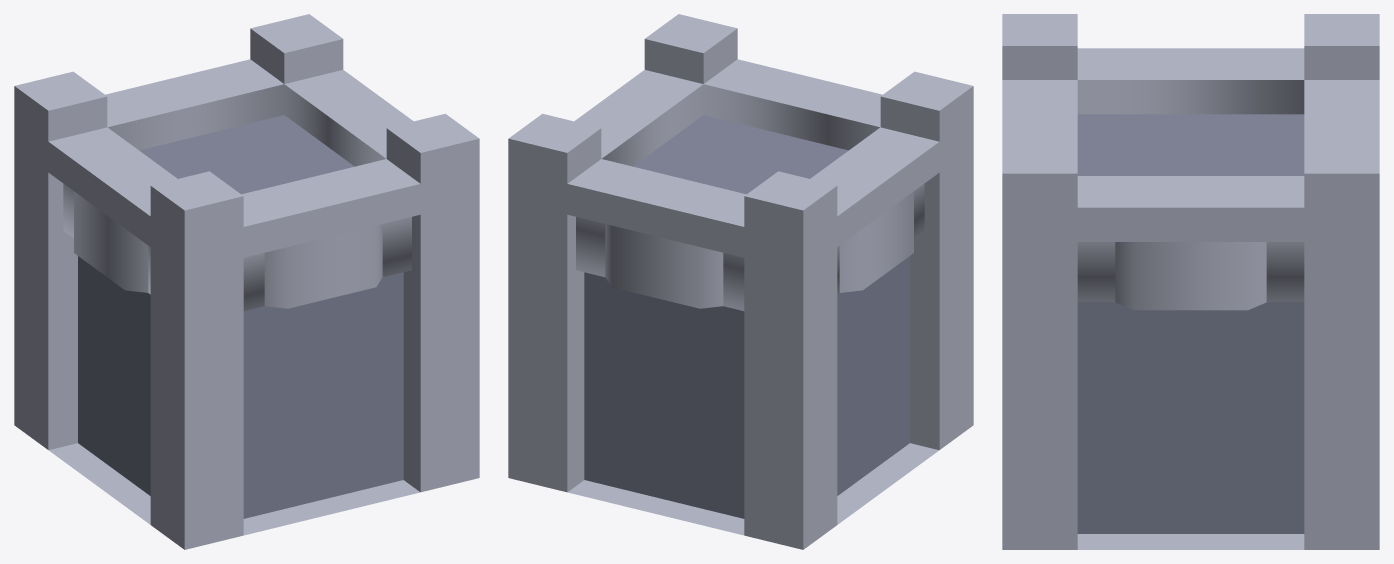
The model's file is wall.glb.
The picture shows the model from 3 angles, left to right: view 1: azimuth 30°, elevation 25°; view 2: azimuth 150°, elevation 25°; view 3: azimuth 270°, elevation 25°; orthographic projection. The views are drawn at different scales.
Parts seen in each view (by area): view 1: wall; view 2: wall; view 3: wall.
Part boxes in pixels (x1,y1,x2,y2): wall: (14, 14, 479, 549); wall: (508, 14, 973, 549); wall: (1002, 14, 1379, 549).
Size of the model in its own units: 1 by 1.1 by 1.
